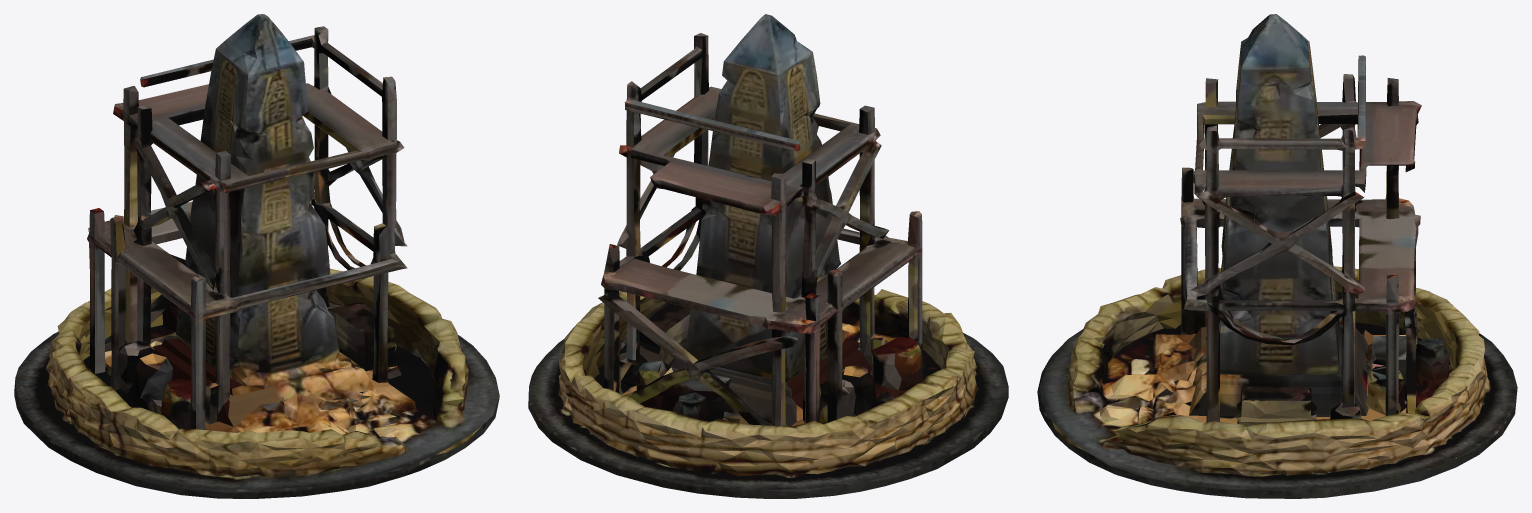
The model's file is temple-monolith.glb.
The picture shows the model from 3 angles, left to right: view 1: azimuth 30°, elevation 25°; view 2: azimuth 150°, elevation 25°; view 3: azimuth 270°, elevation 25°; orthographic projection.
Parts seen in each view (by area): view 1: tmp6e9401s3.ply; view 2: tmp6e9401s3.ply; view 3: tmp6e9401s3.ply.
Boxes of the visible parts, <box> form: tmp6e9401s3.ply: <box>14,14,499,498</box>; tmp6e9401s3.ply: <box>528,14,1008,498</box>; tmp6e9401s3.ply: <box>1037,14,1517,498</box>.
Bounding box in the file's own units: 3.4 × 3 × 3.4.
Materials: 1 (1 with a texture image).
